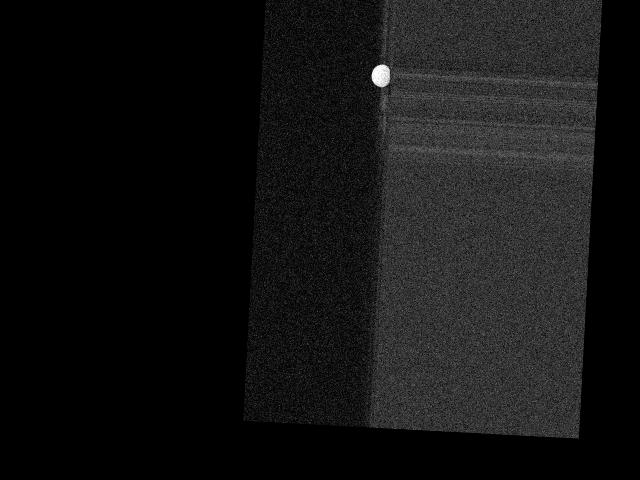egg: (371, 64, 390, 88)
